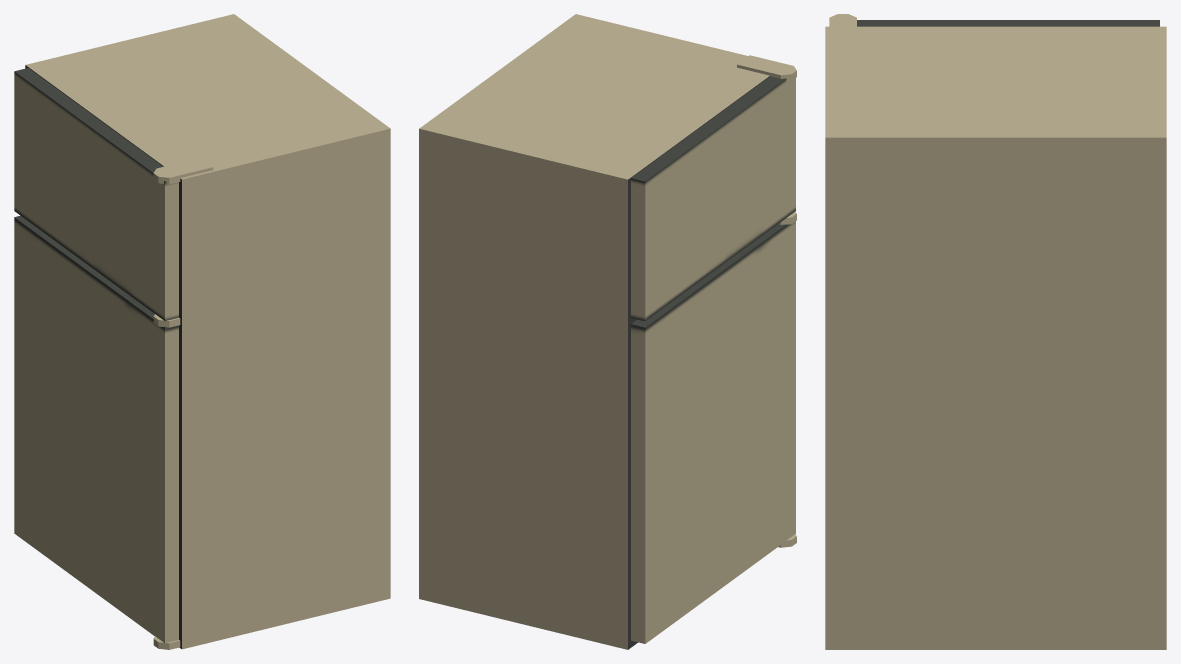
File: refrigerator.gltf
3 views of the same model, side by side, from view 1: azimuth 30°, elevation 25°; view 2: azimuth 150°, elevation 25°; view 3: azimuth 270°, elevation 25° (orthographic). The views are drawn at different scales.
Parts seen in each view (by area): view 1: Refrigerator; view 2: Refrigerator; view 3: Refrigerator.
Part boxes in pixels (bbox=[...]): Refrigerator: bbox=[14, 14, 390, 649]; Refrigerator: bbox=[419, 14, 796, 649]; Refrigerator: bbox=[825, 14, 1166, 649].
Size of the model in its own units: 1.25 by 2.5 by 1.5.
1 material, 1 textured.
